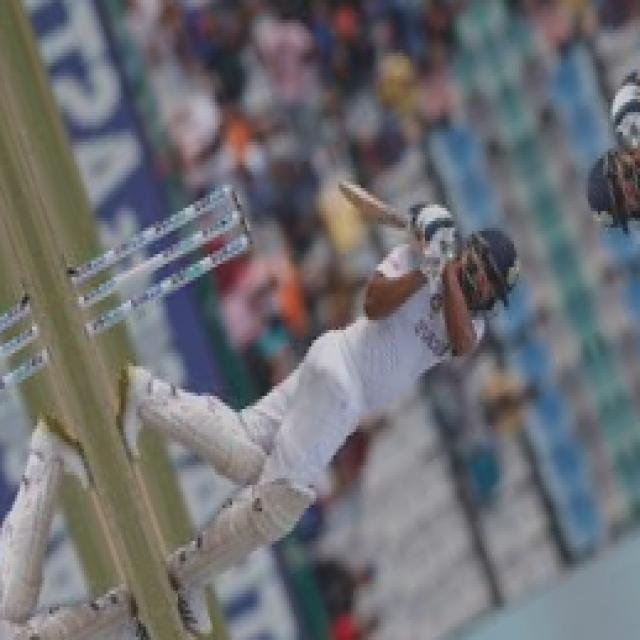toe: (332, 181, 358, 204)
